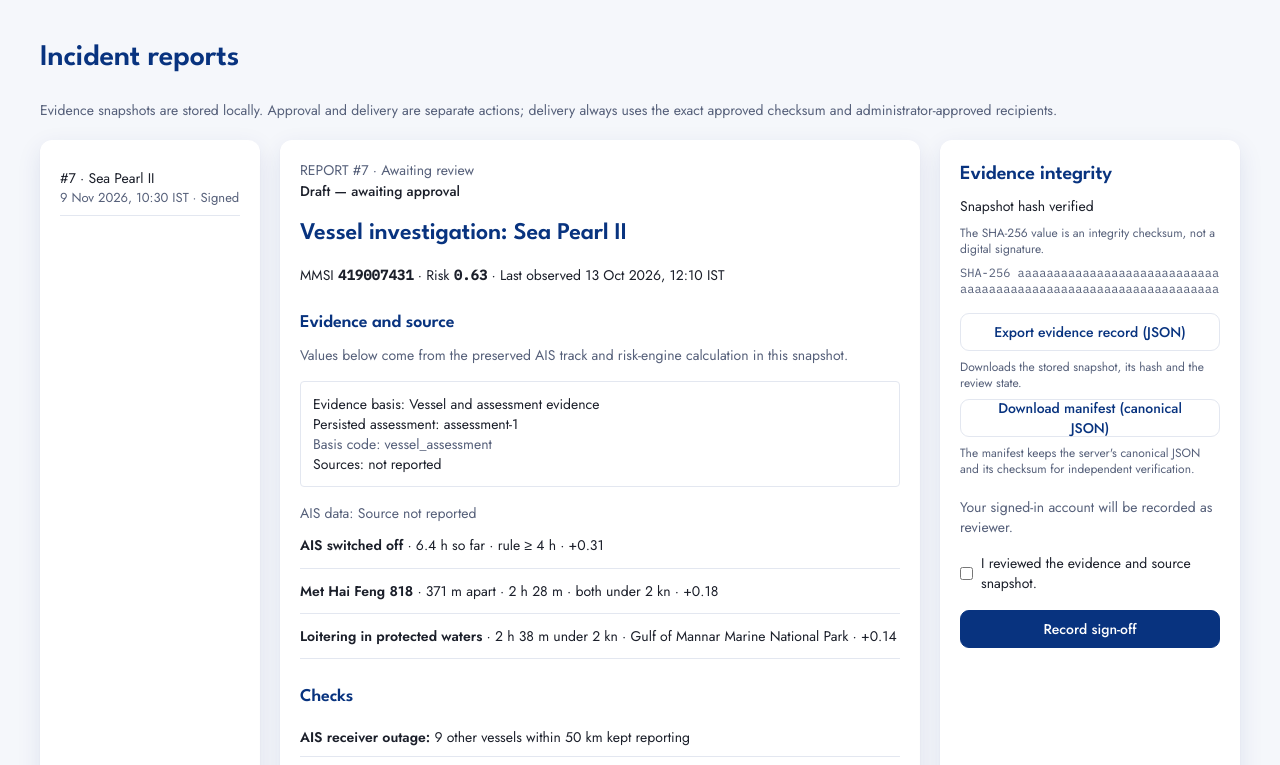
Test: Reports review and export › approves with reviewed true and the displayed checksum
Step 1. Click the checkbox labelled "I reviewed the evidence and source snapshot." → x=966, y=574, box [960,553,973,594]
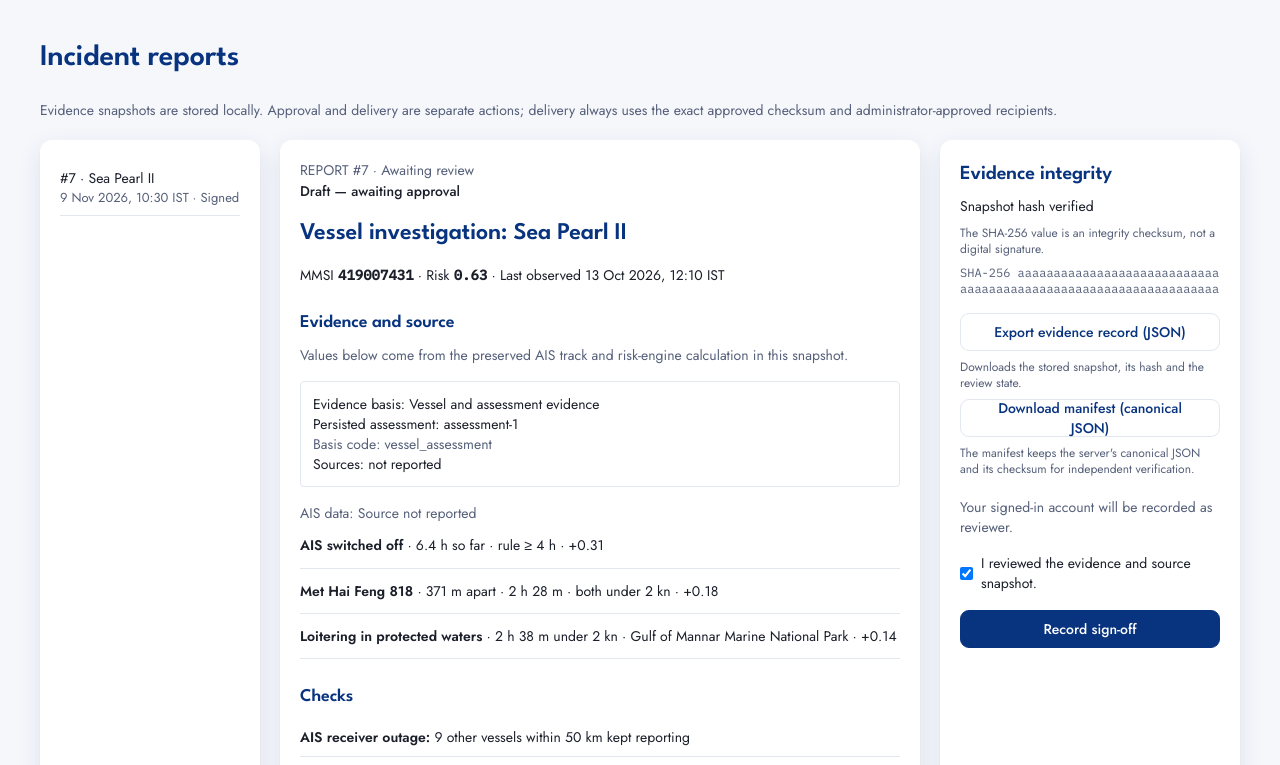
Step 2. Click the button "Record sign-off" → x=1090, y=629, box [960,610,1220,648]
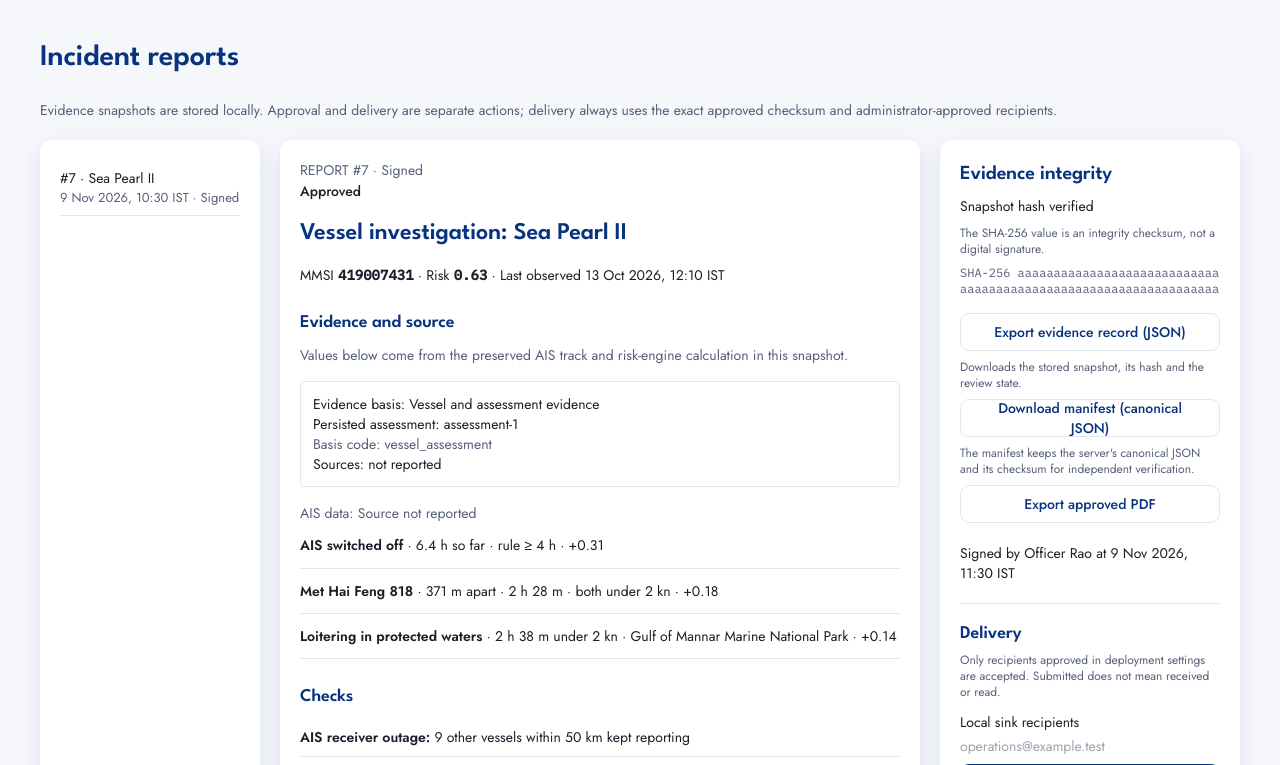
expect the text "Signed by Officer Rao at 9 Nov 2026, 11:30 IST" is shown: met, box [960,543,1220,583]
expect the text "Approved" is shown: met, box [300,181,361,201]
